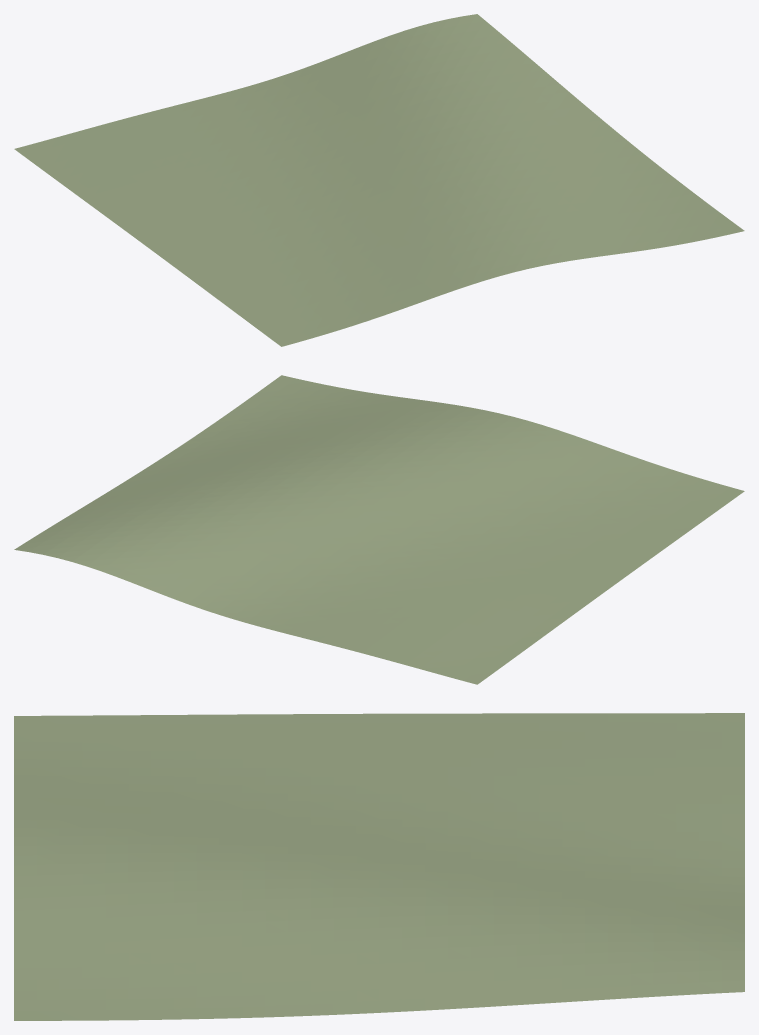
File: desert-1-7.glb
3 views of the same model, one above another, from view 1: azimuth 30°, elevation 25°; view 2: azimuth 150°, elevation 25°; view 3: azimuth 270°, elevation 25° (orthographic). The views are drawn at different scales.
Parts seen in each view (by area): view 1: desert-1-7; view 2: desert-1-7; view 3: desert-1-7.
Boxes of the visible parts, x1,y1,x2,y2 form: desert-1-7: (14, 14, 744, 346); desert-1-7: (14, 375, 744, 684); desert-1-7: (14, 713, 744, 1020).
Bounding box in the file's own units: 512 × 27.86 × 512.
